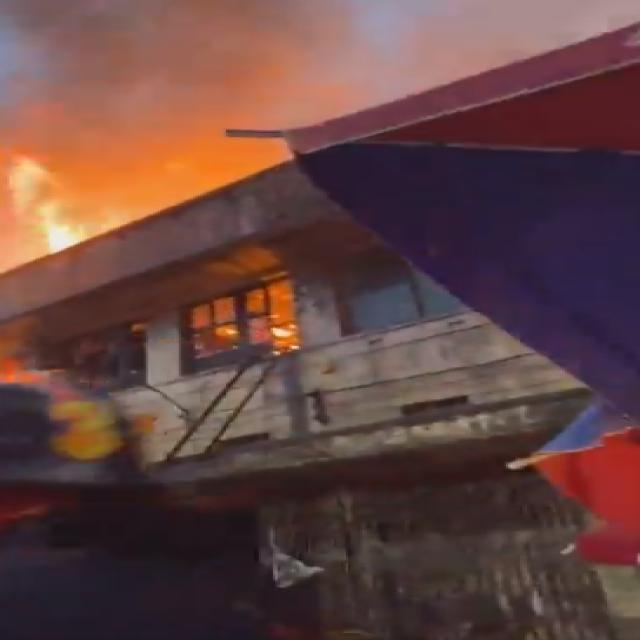Fire: (0, 104, 85, 250), (190, 300, 322, 358)
Smoke: (2, 0, 263, 186), (292, 0, 504, 97)
